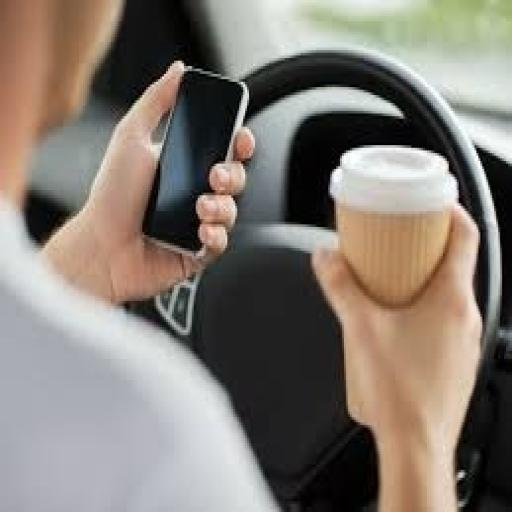texting: (0, 0, 486, 509)
